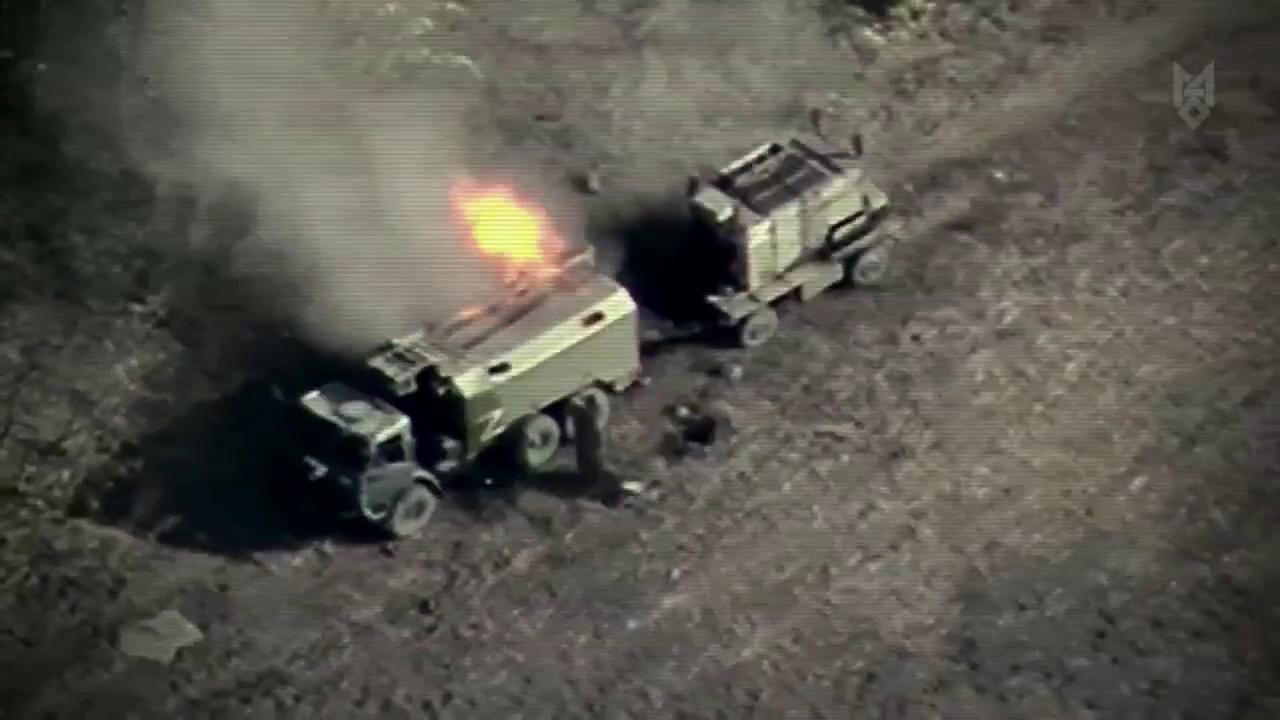tank: (291, 239, 657, 547), (639, 113, 909, 351)
